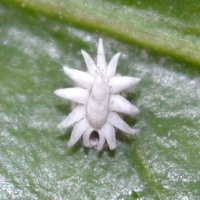insect: (55, 38, 139, 150)
